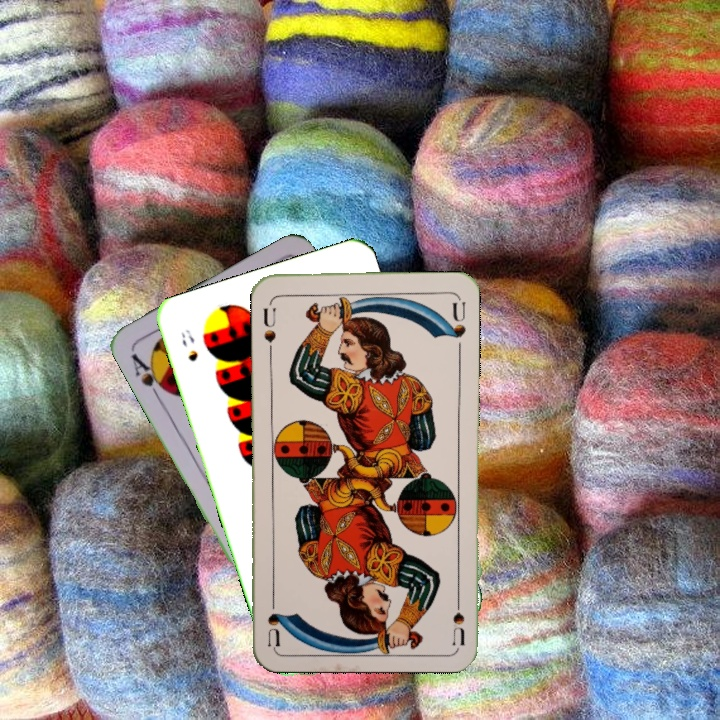S8: (177, 325, 201, 364)
SA: (127, 349, 172, 402)
SU: (449, 587, 468, 646), (259, 304, 279, 356)
